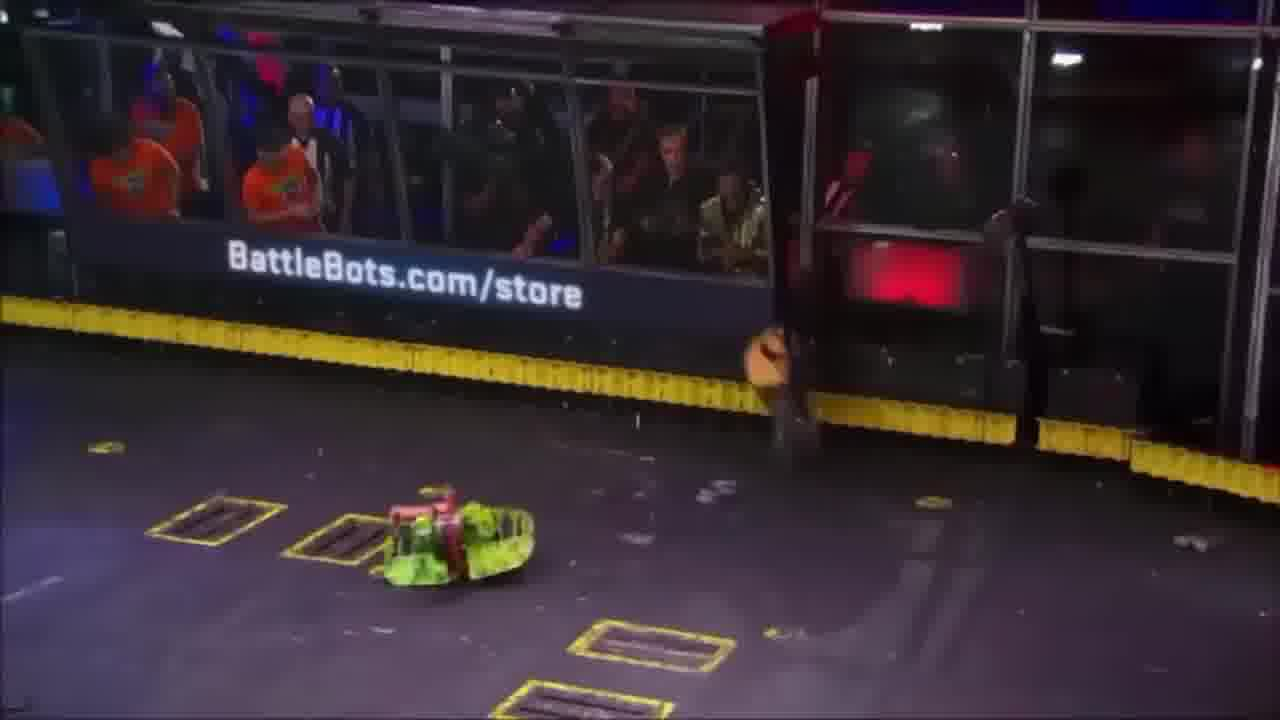combatbot: (380, 485, 542, 587)
